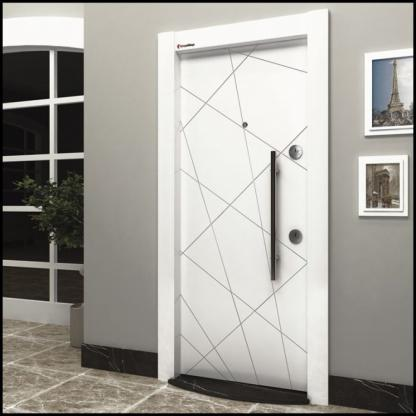door: (180, 52, 306, 392)
